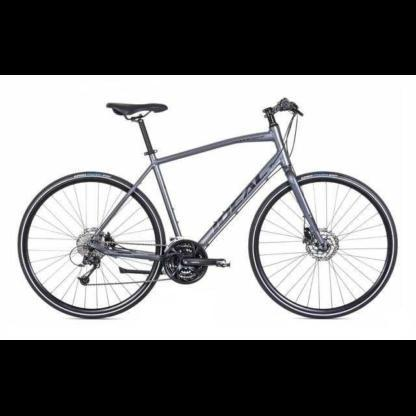Bicycle: (5, 82, 406, 325)
